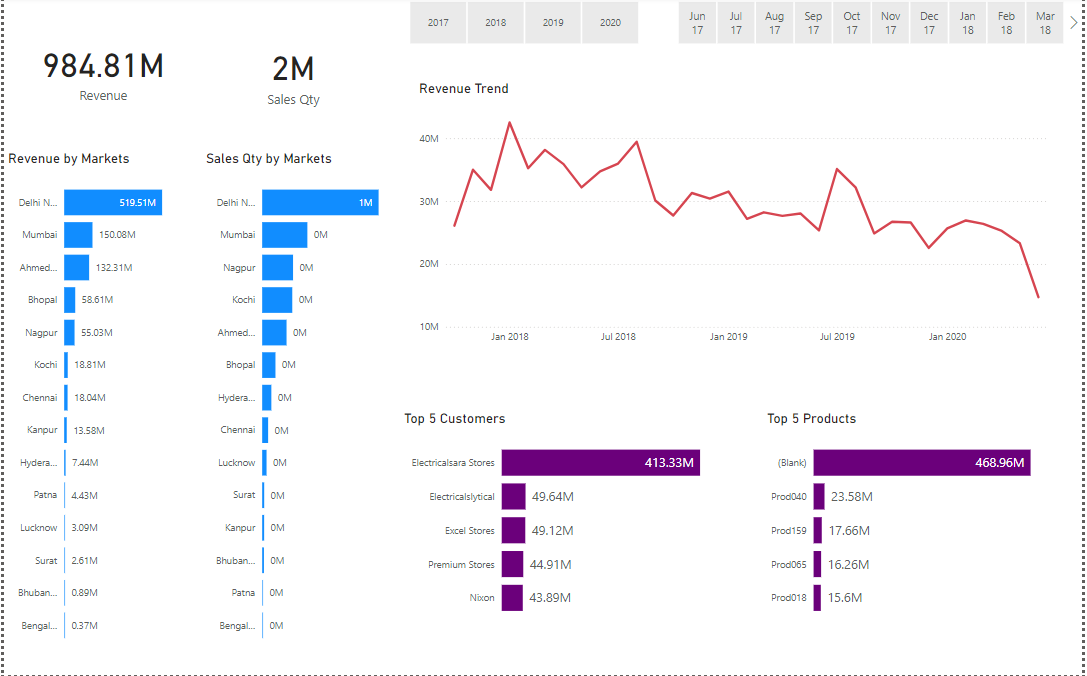

The page's visual inventory and layout, read from the dashboard file:
{"tool":"powerbi","page":{"name":"Page 1","canvas":[1350,850],"ordinal":0},"visuals":[{"type":"card","fields":{"Values":["BaseMeasures (2).Revenue"]},"box":[0,0,247.9,184.6],"z":0},{"type":"card","fields":{"Values":["BaseMeasures (2).Sales Qty"]},"box":[247.9,0,227.9,193.1],"z":1000},{"type":"barChart","title":"Revenue by Markets","fields":{"Y":["BaseMeasures (2).Revenue"],"Category":["sales markets.markets_name"]},"box":[0,193.1,247.9,631.9],"z":2000},{"type":"barChart","title":"Sales Qty by Markets","fields":{"Y":["BaseMeasures (2).Sales Qty"],"Category":["sales markets.markets_name"]},"box":[247.9,193.1,247.9,631.9],"z":3000},{"type":"slicer","fields":{"Values":["sales date.year"]},"box":[483.2,0,335.5,66.5],"z":4000},{"type":"slicer","fields":{"Values":["sales date.cy_date"]},"box":[818.6,0,531.7,66.5],"z":5000},{"type":"barChart","title":"Top 5 Customers","fields":{"Y":["BaseMeasures (2).Revenue"],"Category":["sales customers.custmer_name"]},"box":[495.8,519,446.2,274.3],"z":6000},{"type":"barChart","title":"Top 5 Products","fields":{"Y":["BaseMeasures (2).Revenue"],"Category":["sales products.product_code"]},"box":[950.5,519,399.8,274.3],"z":7000},{"type":"lineChart","title":"Revenue Trend","fields":{"Y":["BaseMeasures (2).Revenue"],"Category":["sales date.cy_date"]},"box":[513.8,104.4,809.1,338.6],"z":8000}]}

Visuals, with their boxes in screenshot pixels (x1, y1, x2, y2), scaled from the page's 1350x850 canvas onto the 1087x676 screenshot:
card - BaseMeasures (2).Revenue: [left=0, top=0, right=200, bottom=147]
card - BaseMeasures (2).Sales Qty: [left=200, top=0, right=383, bottom=154]
"Revenue by Markets" barChart: [left=0, top=154, right=200, bottom=656]
"Sales Qty by Markets" barChart: [left=200, top=154, right=399, bottom=656]
slicer - sales date.year: [left=389, top=0, right=659, bottom=53]
slicer - sales date.cy_date: [left=659, top=0, right=1086, bottom=53]
"Top 5 Customers" barChart: [left=399, top=413, right=758, bottom=631]
"Top 5 Products" barChart: [left=765, top=413, right=1086, bottom=631]
"Revenue Trend" lineChart: [left=414, top=83, right=1065, bottom=352]
